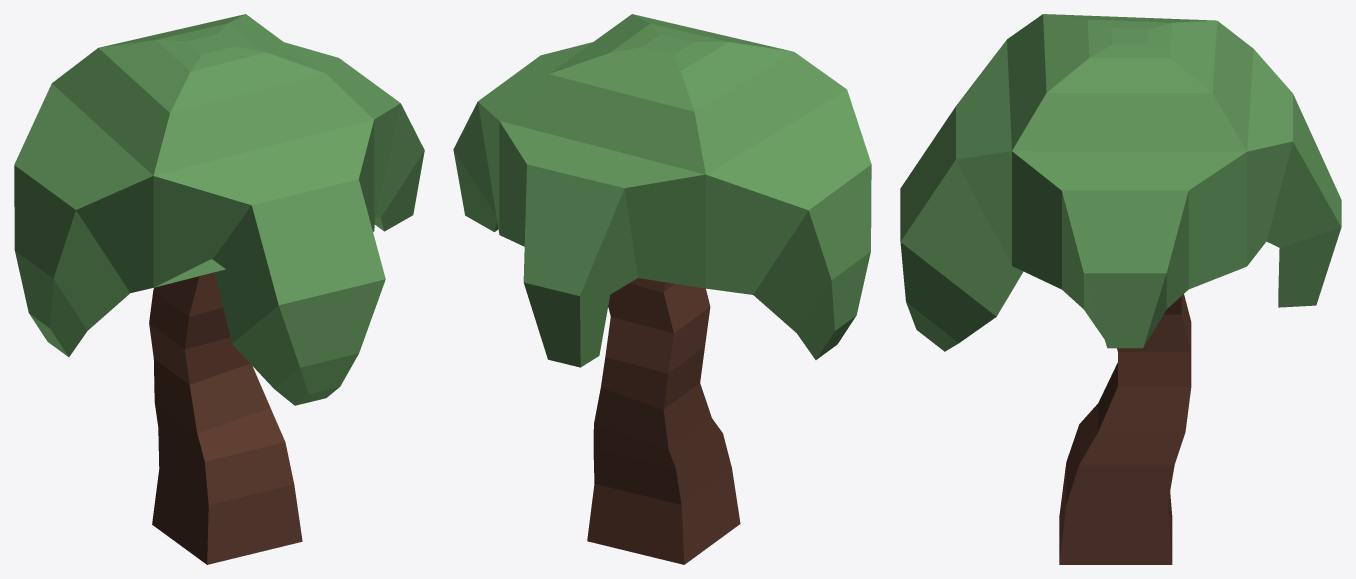
File: Oak_1.glb
3 renders of one model, left to right at view 1: azimuth 30°, elevation 25°; view 2: azimuth 150°, elevation 25°; view 3: azimuth 270°, elevation 25°, orthographic. The views are drawn at different scales.
Visible parts, largest first — view 1: Cube.001, Cube; view 2: Cube.001, Cube; view 3: Cube.001, Cube.
Boxes of the visible parts, bbox=[...] form: Cube.001: bbox=[14, 14, 424, 405]; Cube: bbox=[149, 272, 302, 564]; Cube.001: bbox=[453, 14, 871, 367]; Cube: bbox=[587, 278, 740, 564]; Cube.001: bbox=[900, 14, 1341, 351]; Cube: bbox=[1059, 294, 1191, 564].
Bounding box in the file's own units: 7.76 × 9.74 × 7.8.
